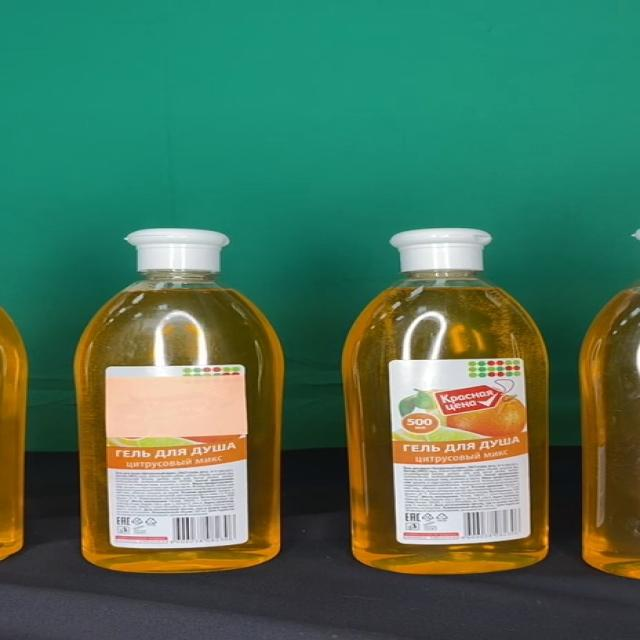Bottle: (75, 228, 284, 574), (342, 228, 550, 574)
Cap: (122, 228, 227, 272), (388, 228, 492, 270)
